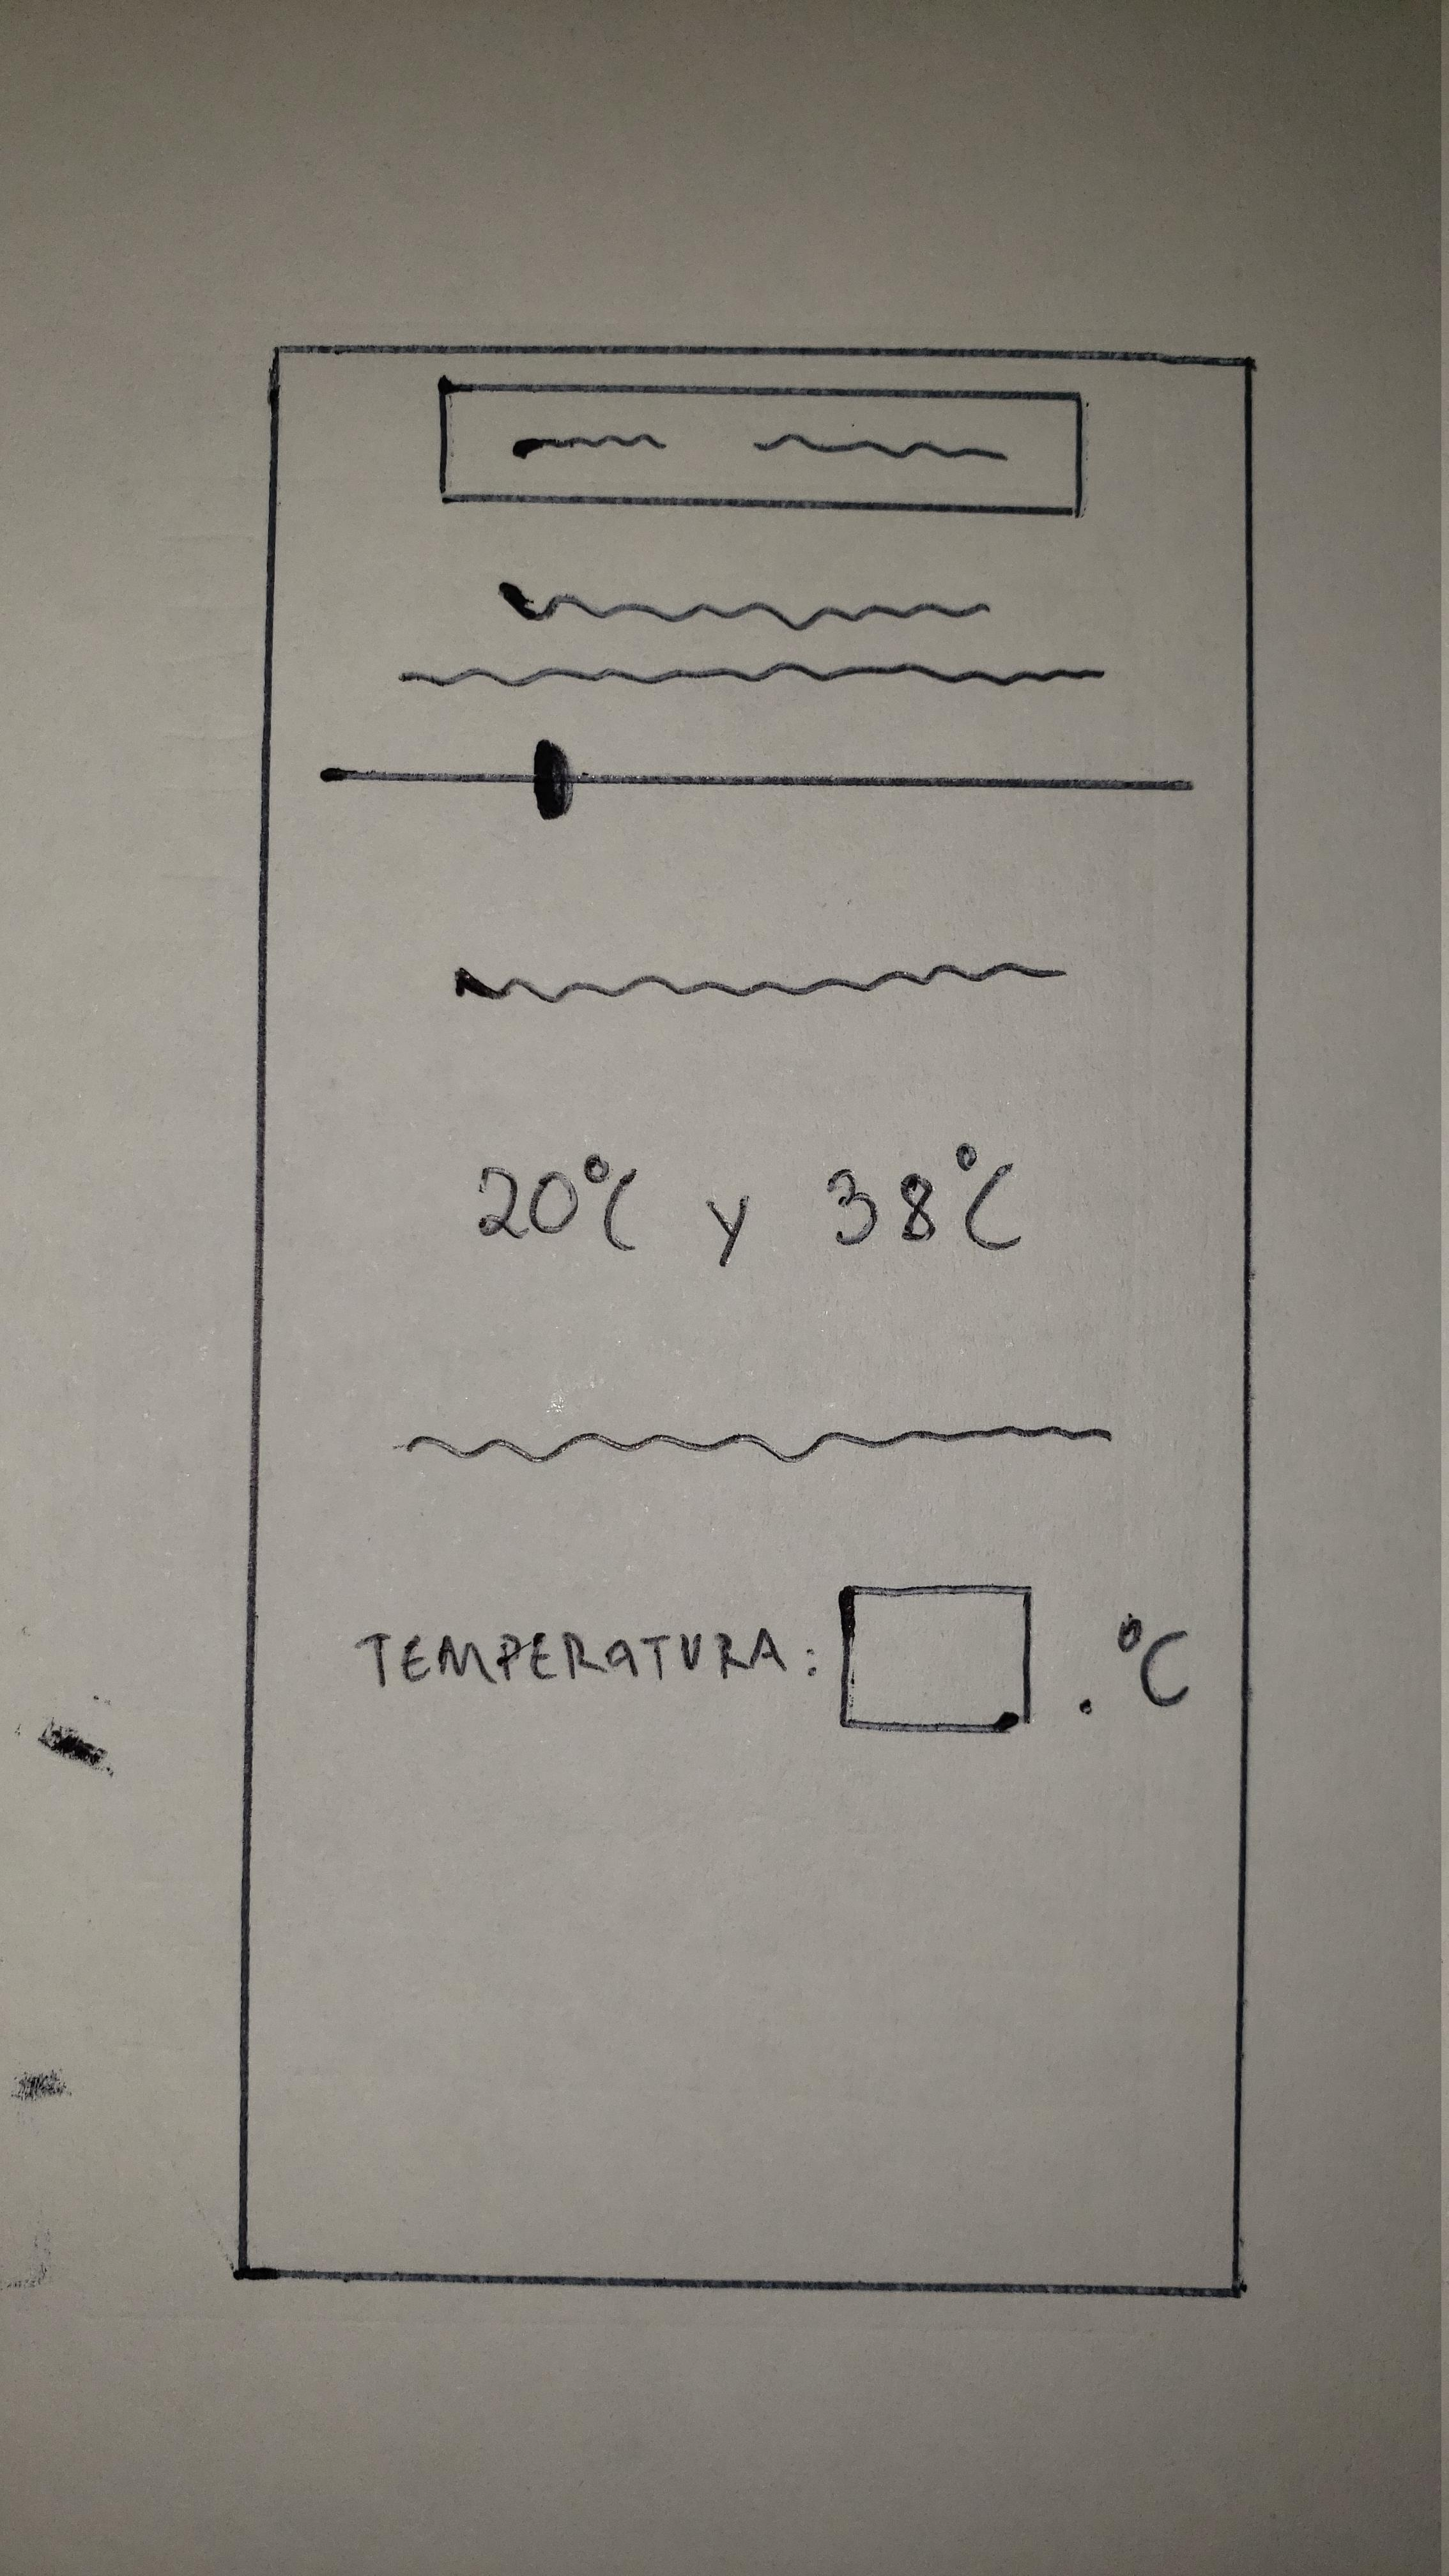Button: (433, 377, 1085, 518)
Label: (396, 580, 1106, 692), (474, 1141, 1023, 1274), (455, 957, 1067, 1005), (407, 1421, 1111, 1461), (357, 1626, 816, 1684), (1070, 1612, 1201, 1721)
Screen: (235, 338, 1253, 2298)
Slider: (320, 738, 1192, 819)
TextBox: (835, 1582, 1035, 1736)
